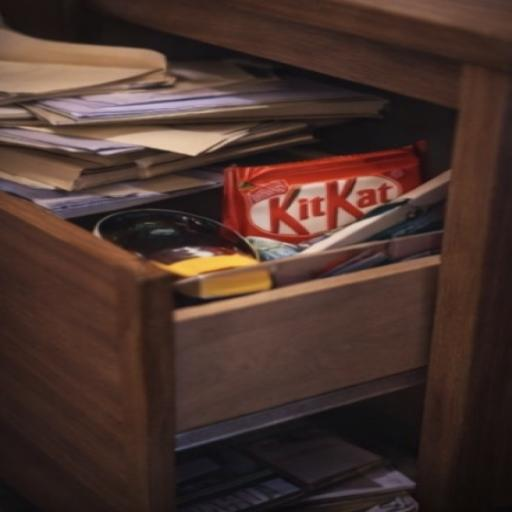kitkat: (177, 143, 487, 315)
